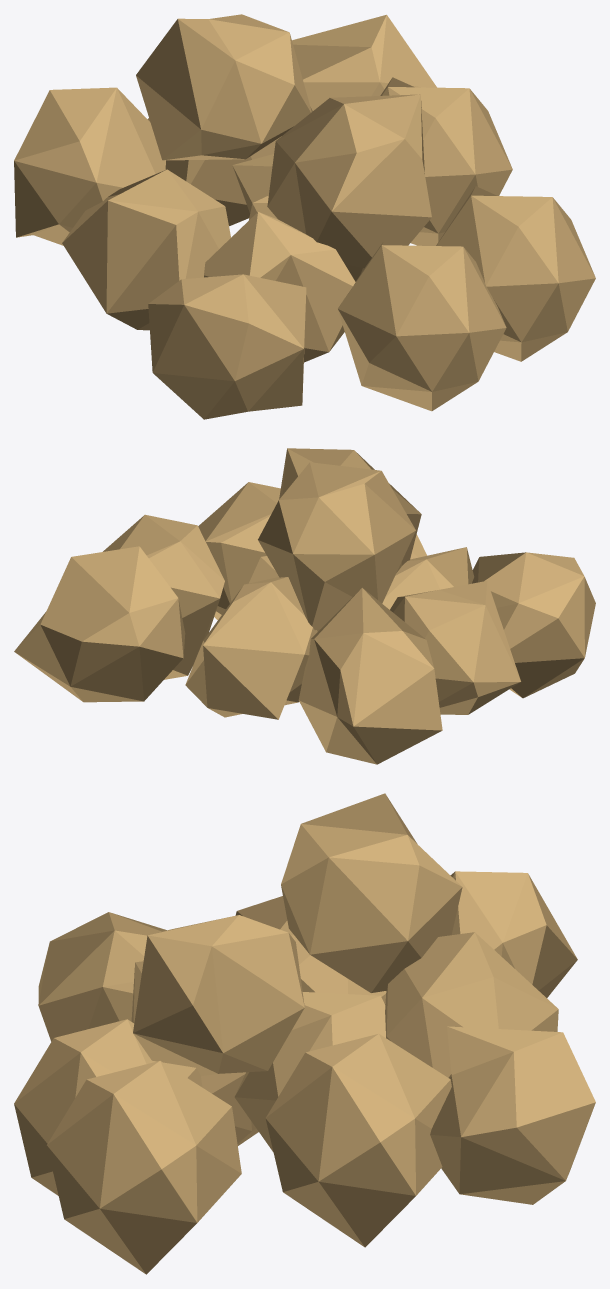
Rendered from SM_Prop_LargeSign_Popcorn_01.012.obj.
The picture shows the model from 3 angles, top to bottom: view 1: azimuth 30°, elevation 25°; view 2: azimuth 150°, elevation 25°; view 3: azimuth 270°, elevation 25°; orthographic projection. The views are drawn at different scales.
Parts seen in each view (by area): view 1: SM_Prop_LargeSign_Popcorn_01.012_0; view 2: SM_Prop_LargeSign_Popcorn_01.012_0; view 3: SM_Prop_LargeSign_Popcorn_01.012_0.
Part boxes in pixels (left/top/right/bottom): SM_Prop_LargeSign_Popcorn_01.012_0: left=14, top=14, right=595, bottom=419; SM_Prop_LargeSign_Popcorn_01.012_0: left=14, top=448, right=595, bottom=764; SM_Prop_LargeSign_Popcorn_01.012_0: left=14, top=793, right=595, bottom=1274.
Bounding box in the file's own units: 1.6 × 1.16 × 1.65.
